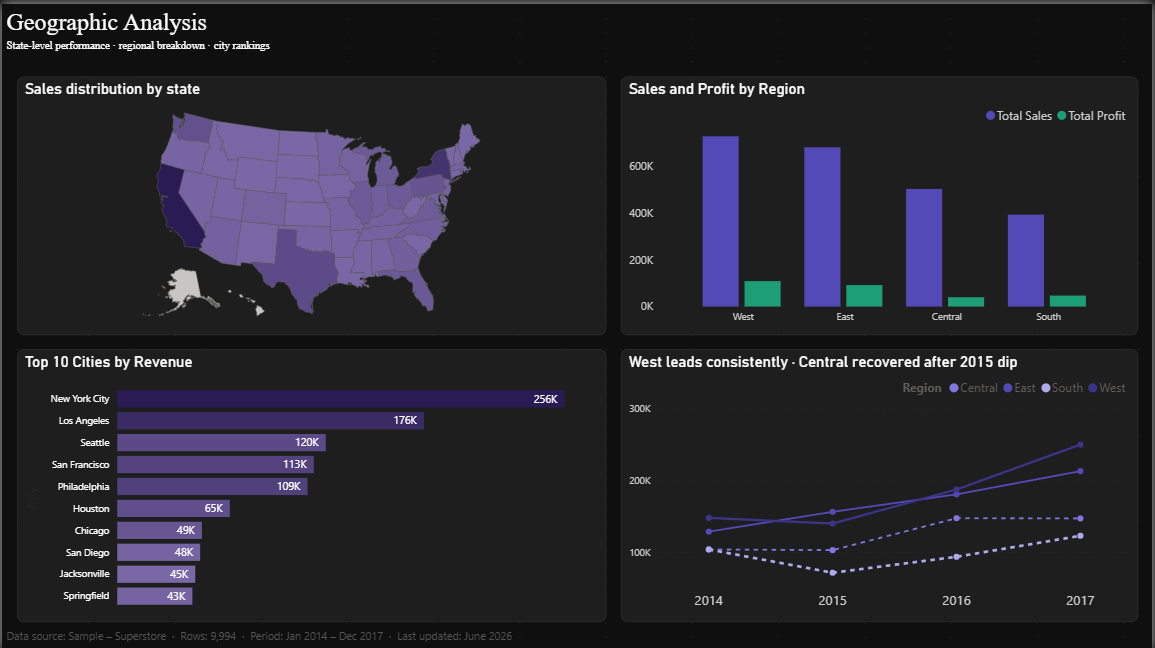

What the dashboard file says about the page in this screenshot:
{"tool":"powerbi","page":{"name":"Geographic Analysis","canvas":[1280,720],"ordinal":2},"visuals":[{"type":"textbox","box":[0,0,352,80],"z":0},{"type":"shapeMap","title":"Sales distribution by state","fields":{"Category":["Table1.State"],"Value":["Table1.Total Sales"]},"box":[16,80,656,288],"z":1000},{"type":"clusteredBarChart","title":"Top 10 Cities by Revenue","fields":{"Category":["Table1.City"],"Y":["Table1.Total Sales"]},"box":[16,384,656,304],"z":2000},{"type":"clusteredColumnChart","title":"Sales and Profit by Region","fields":{"Y":["Table1.Total Sales","Table1.Total Profit"],"Category":["Table1.Region"]},"box":[688,80,576,288],"z":3000},{"type":"lineChart","title":"West leads consistently · Central recovered after 2015 dip","fields":{"Series":["Table1.Region"],"Y":["Table1.Total Sales"],"Category":["Table1.Order Date.Variation.Date Hierarchy.Year"]},"box":[688,384,576,304],"z":4000},{"type":"textbox","box":[0,688,608,32],"z":5000}]}

Visuals, with their boxes in screenshot pixels (x1, y1, x2, y2), scaled from the page's 1280x720 canvas onto the 1155x648 screenshot:
textbox: x1=0, y1=0, x2=318, y2=72
"Sales distribution by state" shapeMap: x1=14, y1=72, x2=606, y2=331
"Top 10 Cities by Revenue" clusteredBarChart: x1=14, y1=346, x2=606, y2=619
"Sales and Profit by Region" clusteredColumnChart: x1=621, y1=72, x2=1141, y2=331
"West leads consistently · Central recovered after 2015 dip" lineChart: x1=621, y1=346, x2=1141, y2=619
textbox: x1=0, y1=619, x2=549, y2=647
